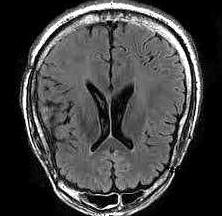Normal_Brain: (1, 1, 222, 216)
